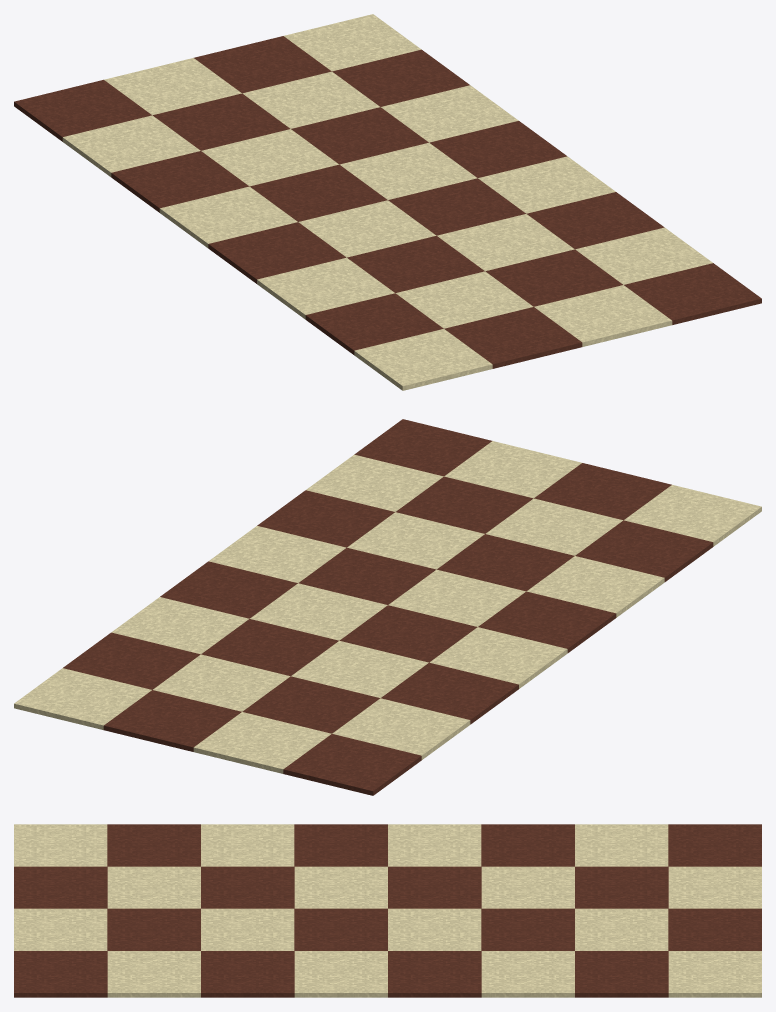
File: alfombra-shaggy-cuadros-rojo-80x150.glb
3 renders of one model, top to bottom at view 1: azimuth 30°, elevation 25°; view 2: azimuth 150°, elevation 25°; view 3: azimuth 270°, elevation 25°, orthographic. The views are drawn at different scales.
Visible parts, largest first — view 1: alfombra-shaggy-cuadros-rojo; view 2: alfombra-shaggy-cuadros-rojo; view 3: alfombra-shaggy-cuadros-rojo.
Part boxes in pixels (bbox=[...]): alfombra-shaggy-cuadros-rojo: bbox=[14, 14, 761, 390]; alfombra-shaggy-cuadros-rojo: bbox=[14, 419, 761, 795]; alfombra-shaggy-cuadros-rojo: bbox=[14, 824, 761, 997].
Size of the model in its own units: 0.8 by 0.01 by 1.5.
2 materials, 2 textured.
